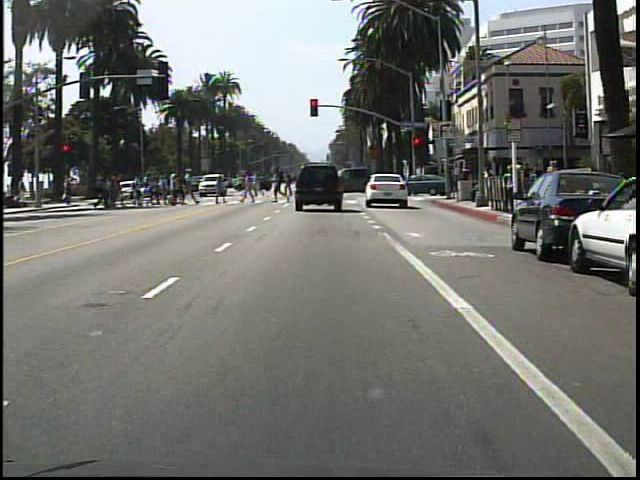person: (499, 162, 517, 214)
